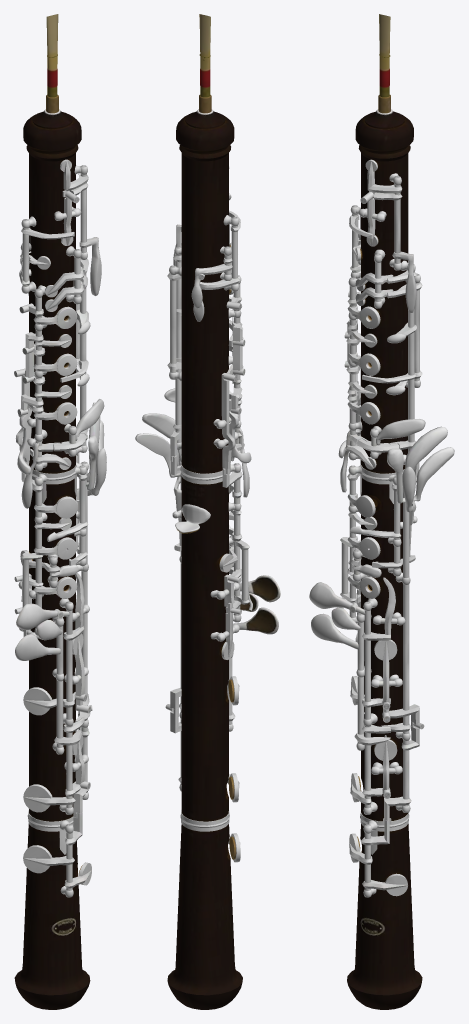
The model's file is oboe-howarth-s20c.glb.
3 renders of one model, left to right at view 1: azimuth 30°, elevation 25°; view 2: azimuth 150°, elevation 25°; view 3: azimuth 330°, elevation 25°, orthographic.
Visible parts, largest first — view 1: Oboe_Base, polySurface9, RodCorner1, PadAndRod14, polySurface4, Rod2, polySurface13, PadAndRod28, polySurface14, PadAndRod31, polySurface2, PadAndRod13 (+25 smaller); view 2: Oboe_Base, PadAndRod14, polySurface9, polySurface13, polySurface5, Rod33, Rod43, PadAndRod37, Weird_Key1, polySurface7, ThumbRest, polySurface12 (+7 smaller); view 3: Oboe_Base, polySurface13, polySurface9, polySurface4, RodCorner1, PadAndRod14, Rod2, polySurface2, polySurface12, RodCorner4, PadAndRod37, Rod30 (+21 smaller).
Boxes of the visible parts, x1=… form: Oboe_Base: x1=14, y1=14, x2=90, y2=1009; polySurface9: x1=16, y1=603, x2=75, y2=719; RodCorner1: x1=23, y1=812, x2=91, y2=890; PadAndRod14: x1=14, y1=518, x2=77, y2=607; polySurface4: x1=60, y1=159, x2=101, y2=296; Rod2: x1=23, y1=718, x2=84, y2=812; polySurface13: x1=81, y1=420, x2=104, y2=696; PadAndRod28: x1=19, y1=297, x2=77, y2=379; polySurface14: x1=21, y1=441, x2=71, y2=508; PadAndRod31: x1=22, y1=332, x2=71, y2=383; polySurface2: x1=53, y1=399, x2=104, y2=451; PadAndRod13: x1=21, y1=463, x2=77, y2=518; Oboe_Base: x1=167, y1=14, x2=242, y2=1009; PadAndRod14: x1=227, y1=510, x2=249, y2=604; polySurface9: x1=227, y1=575, x2=280, y2=705; polySurface13: x1=135, y1=433, x2=181, y2=688; polySurface5: x1=193, y1=210, x2=240, y2=321; Rod33: x1=175, y1=255, x2=181, y2=442; Rod43: x1=221, y1=373, x2=235, y2=474; PadAndRod37: x1=167, y1=273, x2=181, y2=372; Weird_Key1: x1=233, y1=607, x2=278, y2=634; polySurface7: x1=191, y1=242, x2=232, y2=308; ThumbRest: x1=175, y1=504, x2=210, y2=533; polySurface12: x1=142, y1=413, x2=181, y2=712; Oboe_Base: x1=347, y1=14, x2=422, y2=1009; polySurface13: x1=387, y1=447, x2=454, y2=710; polySurface9: x1=309, y1=582, x2=390, y2=719; polySurface4: x1=365, y1=159, x2=416, y2=312; RodCorner1: x1=349, y1=818, x2=407, y2=896; PadAndRod14: x1=340, y1=512, x2=380, y2=602; Rod2: x1=350, y1=724, x2=390, y2=808; polySurface2: x1=357, y1=419, x2=425, y2=452; polySurface12: x1=381, y1=426, x2=447, y2=733; RodCorner4: x1=384, y1=721, x2=419, y2=820; PadAndRod37: x1=386, y1=282, x2=422, y2=395; Rod30: x1=374, y1=640, x2=397, y2=712.
Size of the model in its own units: 0.0833 by 0.6769 by 0.0573.
Materials: 1 (1 with a texture image).
